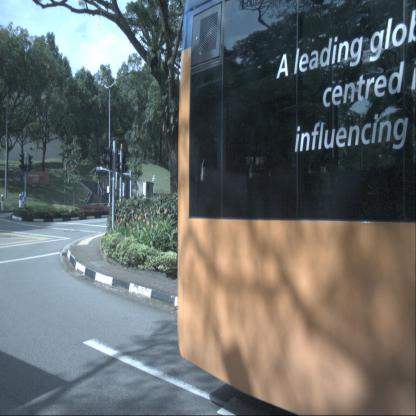vehicle-bus-rigid: (177, 0, 415, 415)
